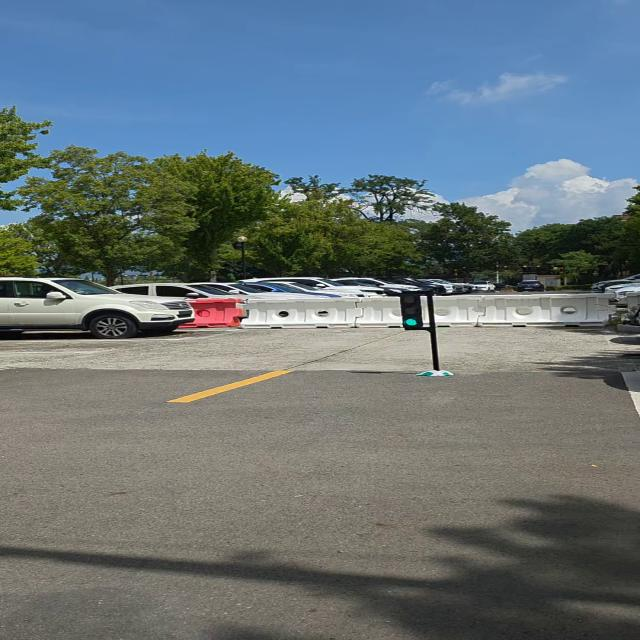green: (393, 291, 431, 332)
